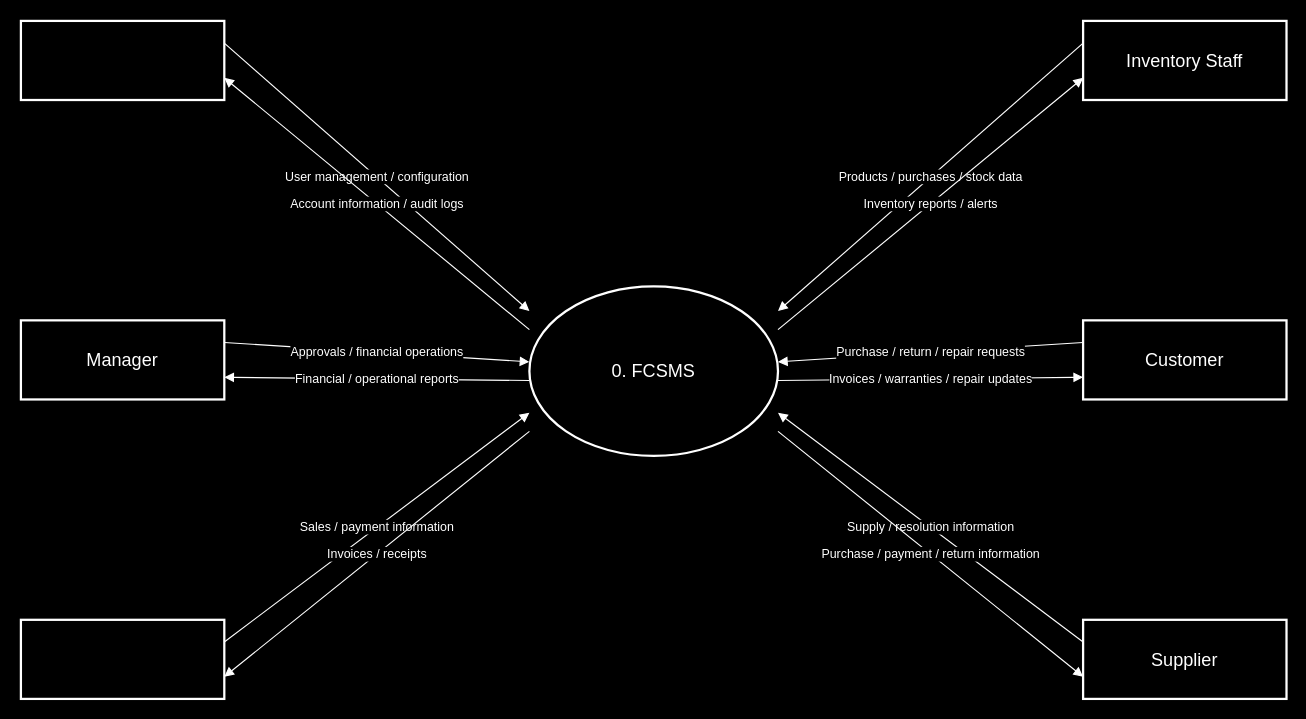
This 1306x719 diagram has some shape labels left out. The shapes that lost their labels are listed below. From the top down, each one's centre as x and y in pixels, then its label:
[122,60]: Administrator
[122,658]: Sales Staff
